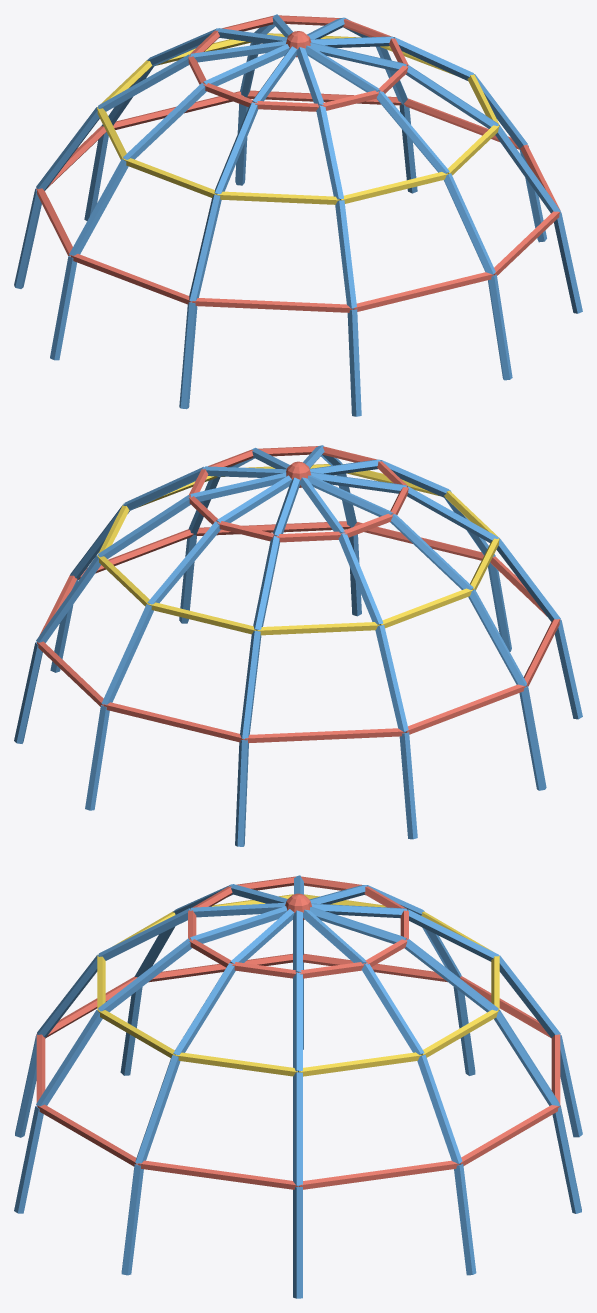
File: climber.glb
The picture shows the model from 3 angles, top to bottom: view 1: azimuth 30°, elevation 25°; view 2: azimuth 150°, elevation 25°; view 3: azimuth 270°, elevation 25°; orthographic projection. The views are drawn at different scales.
Parts seen in each view (by area): view 1: model; view 2: model; view 3: model.
Boxes of the visible parts, <box> form: model: <box>14,14,582,416</box>; model: <box>14,445,582,846</box>; model: <box>14,875,582,1298</box>.
Bounding box in the file's own units: 3.87 × 2 × 3.68.
